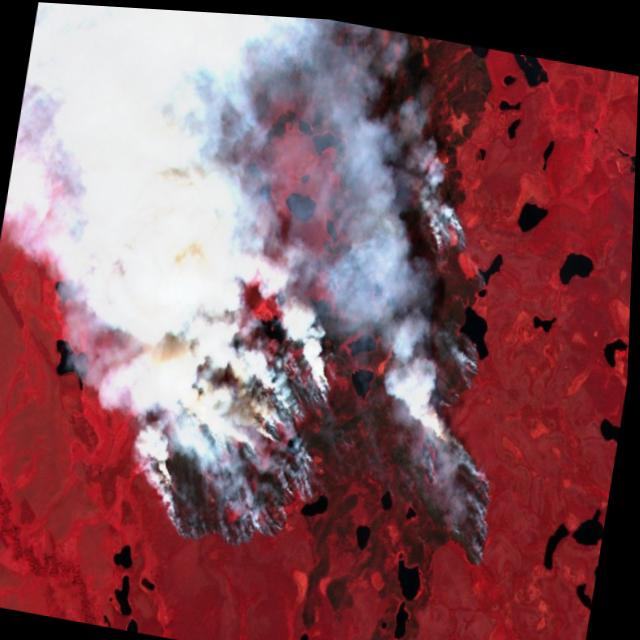fire: (129, 155, 551, 602)
